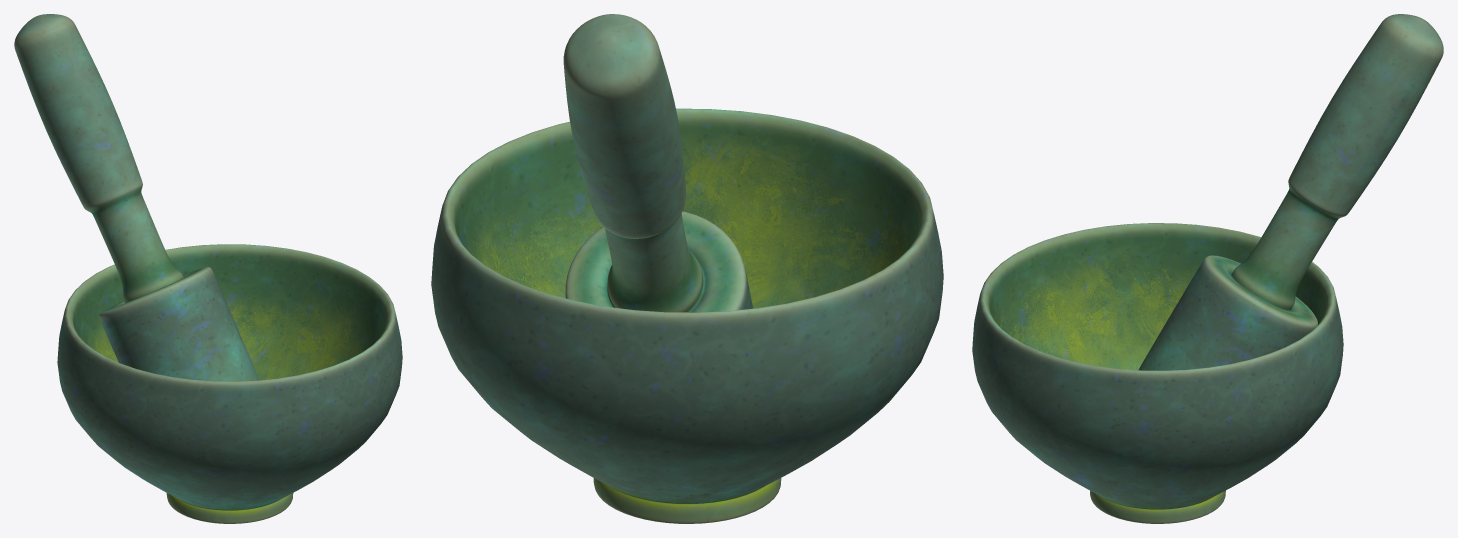
The model's file is Mortar.fbx.
The picture shows the model from 3 angles, left to right: view 1: azimuth 30°, elevation 25°; view 2: azimuth 150°, elevation 25°; view 3: azimuth 270°, elevation 25°; orthographic projection. The views are drawn at different scales.
Parts seen in each view (by area): view 1: Mortar, Mortar.001; view 2: Mortar, Mortar.001; view 3: Mortar, Mortar.001.
Boxes of the visible parts, x1,y1,x2,y2 form: Mortar: (57, 244, 402, 523); Mortar.001: (14, 14, 259, 381); Mortar: (431, 108, 943, 523); Mortar.001: (563, 14, 752, 312); Mortar: (972, 223, 1343, 523); Mortar.001: (1138, 14, 1443, 370).
Size of the model in its own units: 13.4 by 17.69 by 17.01.
